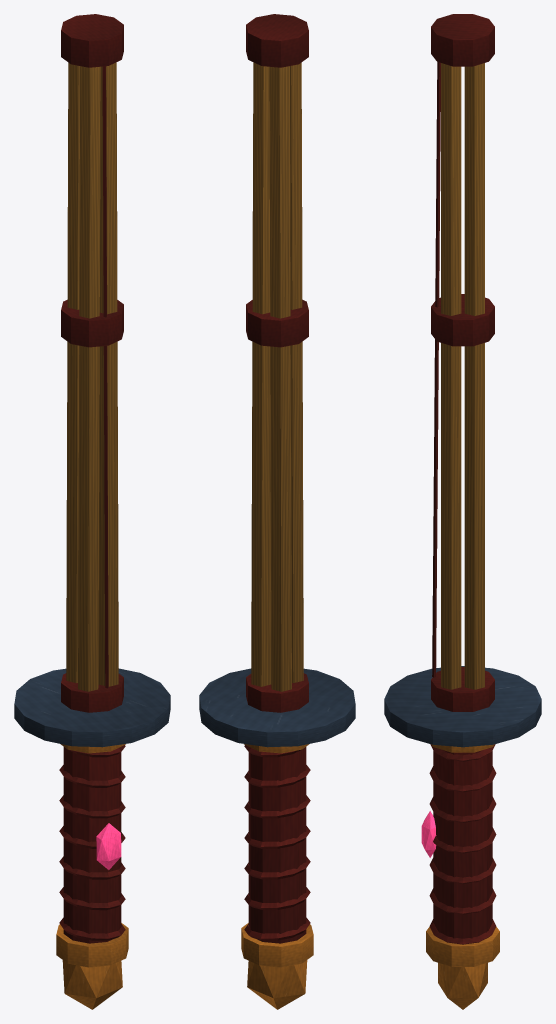
File: shinai-t2.glb
The picture shows the model from 3 angles, left to right: view 1: azimuth 30°, elevation 25°; view 2: azimuth 150°, elevation 25°; view 3: azimuth 270°, elevation 25°; orthographic projection.
Visible parts, largest first — view 1: Bamboo stave, Bamboo stave.002, Leather grip, Shinai tsuba, Bamboo stave.001, Shinai binding.002, Shinai tension cord, Faceted pommel, Shinai binding.001, Grip ferrule, Shinai binding, Grip seal (+5 smaller); view 2: Bamboo stave.001, Bamboo stave.003, Leather grip, Shinai tsuba, Bamboo stave, Shinai binding.002, Shinai binding.001, Faceted pommel, Grip ferrule, Shinai binding, Raised grip wrap.002, Raised grip wrap.004 (+4 smaller); view 3: Bamboo stave.002, Bamboo stave.003, Leather grip, Shinai tsuba, Shinai binding.002, Shinai tension cord, Shinai binding.001, Grip ferrule, Shinai binding, Faceted pommel, Raised grip wrap.004, Raised grip wrap.002 (+6 smaller).
Boxes of the visible parts, left/top/right/bottom form: Bamboo stave: left=78, top=66, right=100, bottom=691; Bamboo stave.002: left=98, top=62, right=118, bottom=686; Leather grip: left=63, top=747, right=121, bottom=943; Shinai tsuba: left=14, top=668, right=170, bottom=747; Bamboo stave.001: left=66, top=62, right=79, bottom=682; Shinai binding.002: left=61, top=14, right=123, bottom=67; Shinai tension cord: left=102, top=66, right=108, bottom=688; Faceted pommel: left=62, top=960, right=122, bottom=1009; Shinai binding.001: left=61, top=299, right=123, bottom=347; Grip ferrule: left=56, top=923, right=128, bottom=967; Shinai binding: left=61, top=673, right=123, bottom=712; Grip seal: left=96, top=823, right=121, bottom=869; Bamboo stave.001: left=269, top=66, right=291, bottom=691; Bamboo stave.003: left=251, top=62, right=271, bottom=686; Leather grip: left=248, top=747, right=306, bottom=943; Shinai tsuba: left=199, top=668, right=355, bottom=747; Bamboo stave: left=290, top=62, right=303, bottom=682; Shinai binding.002: left=246, top=14, right=308, bottom=67; Shinai binding.001: left=246, top=299, right=308, bottom=347; Faceted pommel: left=247, top=960, right=307, bottom=1009; Grip ferrule: left=241, top=923, right=313, bottom=967; Shinai binding: left=246, top=673, right=308, bottom=712; Raised grip wrap.002: left=244, top=856, right=310, bottom=879; Raised grip wrap.004: left=244, top=795, right=310, bottom=818; Bamboo stave.002: left=441, top=63, right=461, bottom=689; Bamboo stave.003: left=464, top=63, right=484, bottom=689; Leather grip: left=433, top=750, right=492, bottom=938; Shinai tsuba: left=384, top=666, right=541, bottom=747; Shinai binding.002: left=431, top=14, right=494, bottom=66; Shinai tension cord: left=432, top=62, right=440, bottom=677; Shinai binding.001: left=431, top=294, right=494, bottom=346; Grip ferrule: left=426, top=927, right=499, bottom=966; Shinai binding: left=431, top=667, right=494, bottom=711; Faceted pommel: left=438, top=962, right=487, bottom=1009; Raised grip wrap.004: left=429, top=797, right=496, bottom=822; Raised grip wrap.002: left=429, top=858, right=496, bottom=884.
Size of the model in its own units: 0.167 by 1.15 by 0.167.
Materials: 1 (1 with a texture image).
